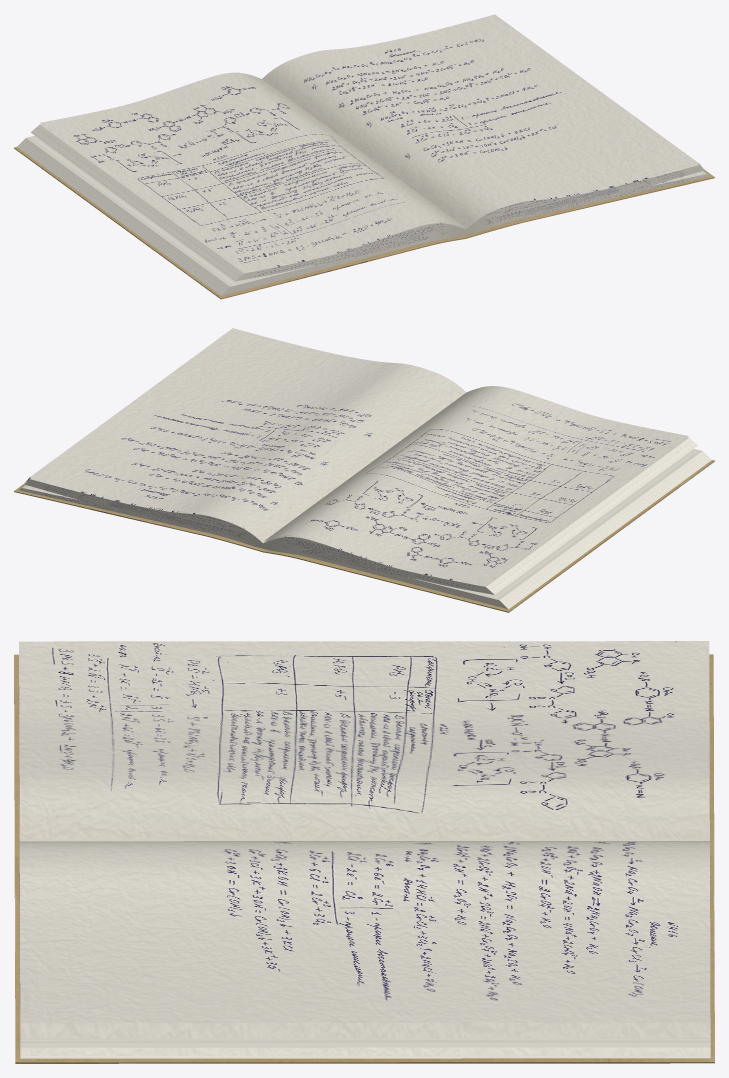
The model's file is Notebook 3.FBX.
3 views of the same model, one above another, from view 1: azimuth 30°, elevation 25°; view 2: azimuth 150°, elevation 25°; view 3: azimuth 270°, elevation 25° (orthographic). The views are drawn at different scales.
Parts seen in each view (by area): view 1: Notebook 3; view 2: Notebook 3; view 3: Notebook 3.
Boxes of the visible parts, x1,y1,x2,y2 form: Notebook 3: [14, 14, 714, 299]; Notebook 3: [14, 328, 714, 612]; Notebook 3: [14, 641, 714, 1063].
Size of the model in its own units: 40.77 by 1.96 by 29.53.
2 materials, 2 textured.
